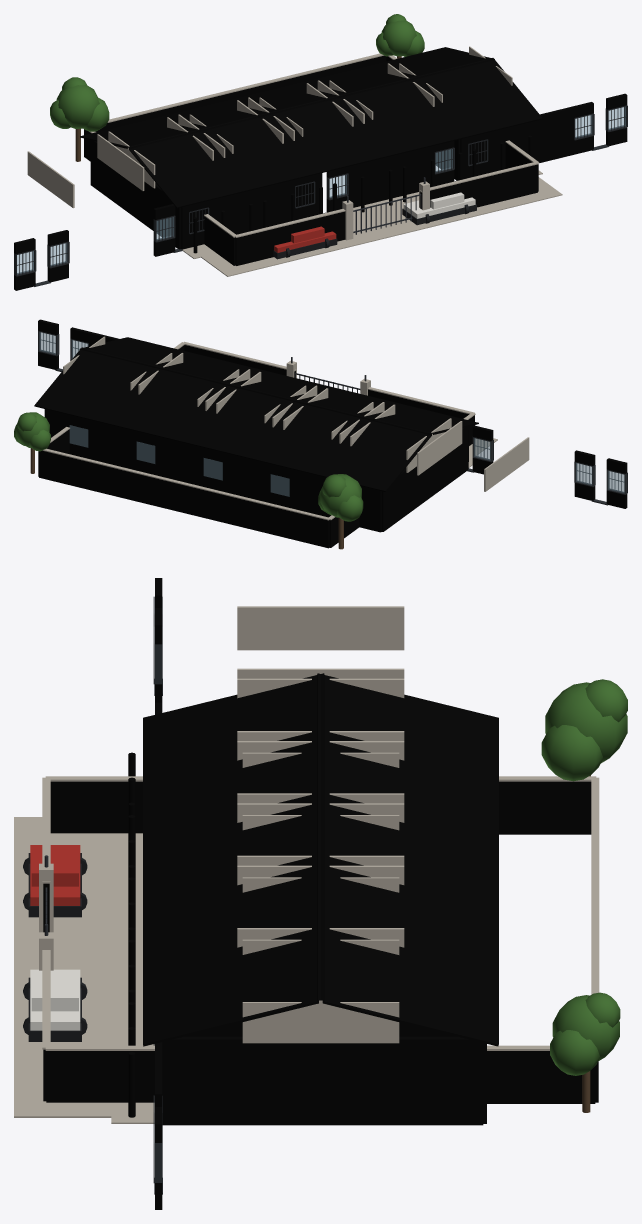
3 views of the same model, one above another, from view 1: azimuth 30°, elevation 25°; view 2: azimuth 150°, elevation 25°; view 3: azimuth 270°, elevation 25° (orthographic). The views are drawn at different scales.
Visible parts, largest first — view 1: object 43, object 205, object 259, object 97, object 151, slab (×2), object 217, left, object 59, object 275, object 5, object 274 (+21 smaller); view 2: back (×5), object 271, object 258, object 42, object 96, object 150, object 204, left, object 259, object 151, object 43, backWin (×4) (+17 smaller); view 3: right (×2), slab (×6), object 42, object 43, object 258, object 259, object 96, object 97, object 204, object 205, object 273, object 150 (+28 smaller).
Boxes of the visible parts, x1,y1,x2,y2 form: object 43: (127,126,263,208); object 205: (342,74,472,157); object 259: (424,58,542,135); object 97: (201,109,333,190); object 151: (284,92,401,173); slab (×2): (201,177,562,276); object 217: (460,106,574,179); left: (90,140,181,249); object 59: (252,173,321,230); object 275: (420,164,537,209); object 5: (181,190,251,249); object 274: (235,211,345,265); back (×5): (45,409,381,532); object 271: (39,450,329,548); object 258: (34,347,164,425); object 42: (302,413,433,491); object 96: (235,396,365,475); object 150: (168,380,282,458); object 204: (101,364,231,442); left: (381,426,468,531); object 259: (80,337,208,369); object 151: (214,370,341,401); object 43: (348,406,478,435); backWin (×4): (69,425,289,496); right (×2): (162,1022,483,1125); slab (×6): (14,817,154,1123); object 42: (317,673,498,793); object 43: (143,673,324,792); object 258: (317,924,498,1046); object 259: (143,925,324,1046); object 96: (317,737,498,857); object 97: (143,737,324,857); object 204: (317,863,498,981); object 205: (143,861,324,981); object 273: (46,1051,595,1103); object 150: (317,800,498,919).
Size of what is drawn, in the model's own units: 43.84 by 5.43 by 20.81.
